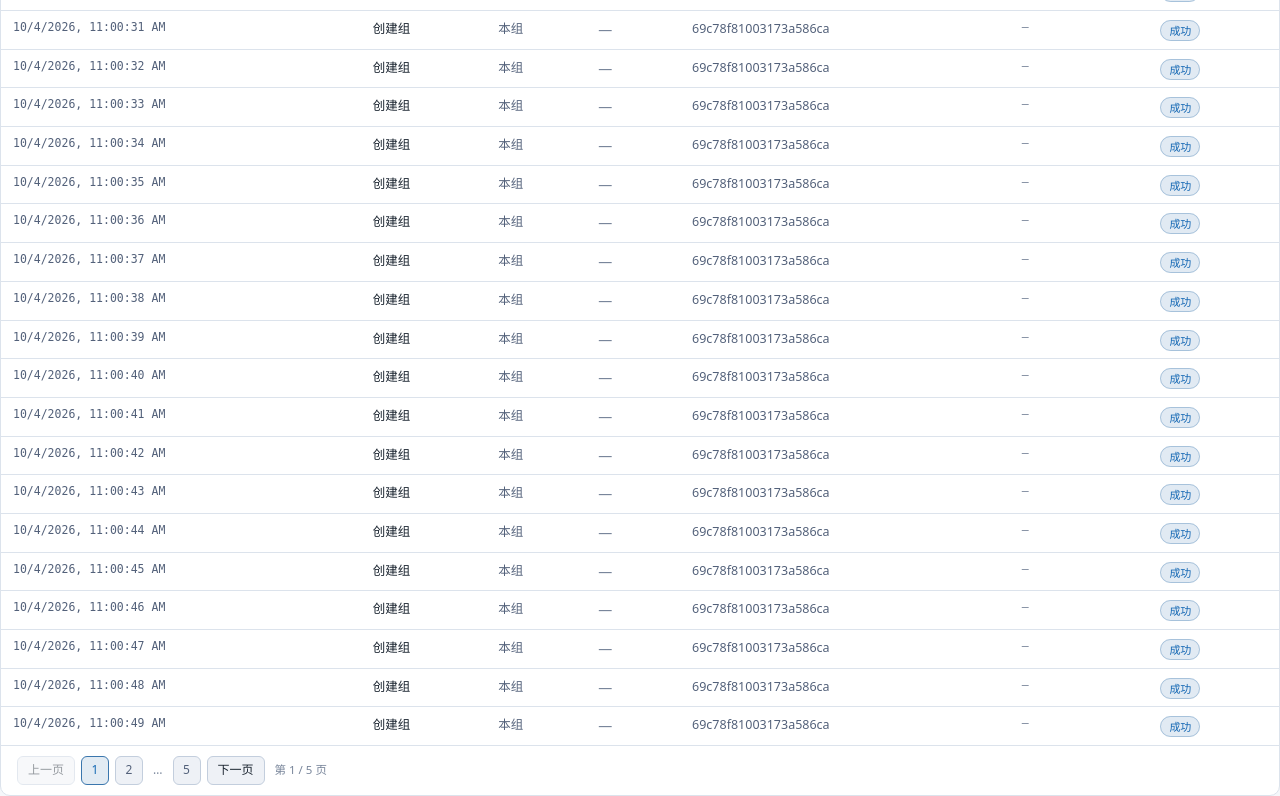
Test case: GroupAuditPanel 页码翻页 › 上一页 / 下一页按位置禁用，并在加载中锁住（防连点）
(page scrolled)
Check: the button with test id "audit-prev-page" is disabled, box [17,756,75,785]
Click the button with test id "audit-next-page". click: (236, 770)
box: [206,756,264,785]
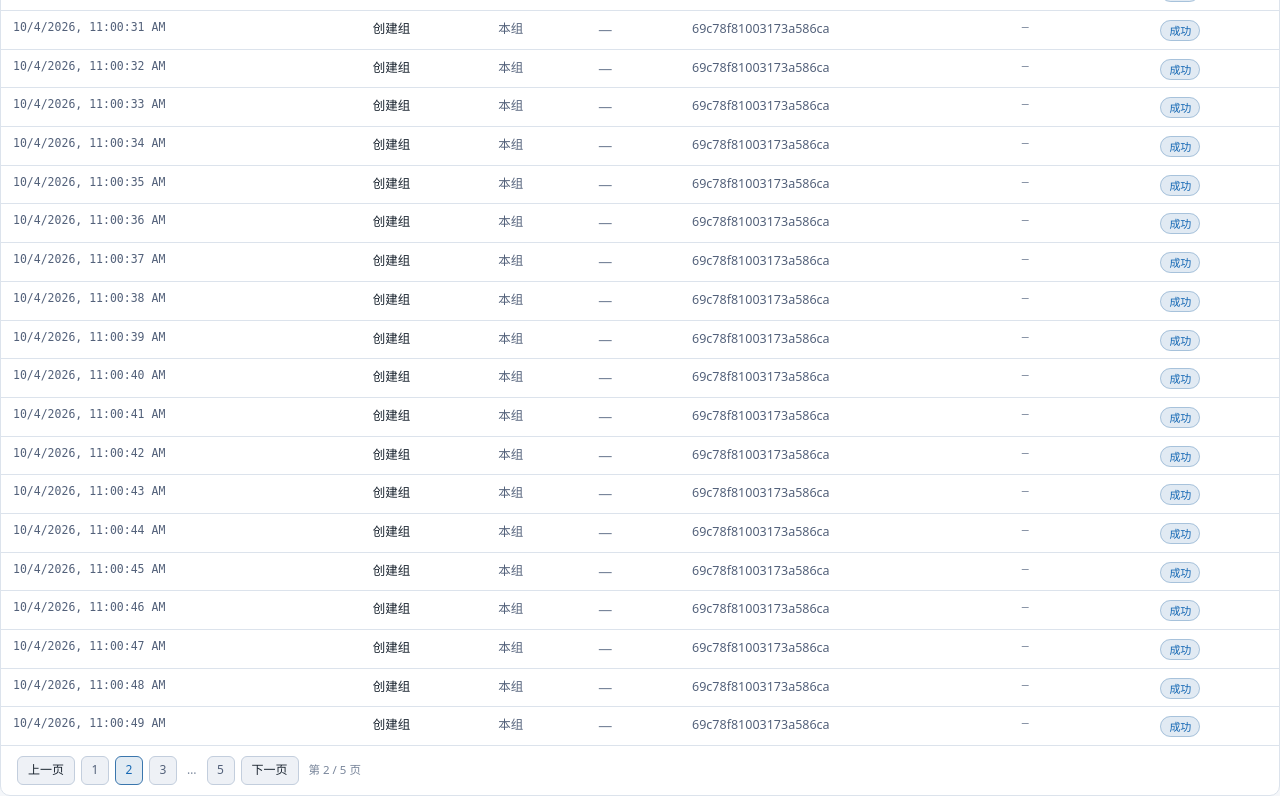
Check: the text with test id "audit-page-summary" reads "第 2 / 5 页", box [308,762,361,778]
Click the button with test id "audit-page-5". click: (220, 770)
box: [206,756,234,785]
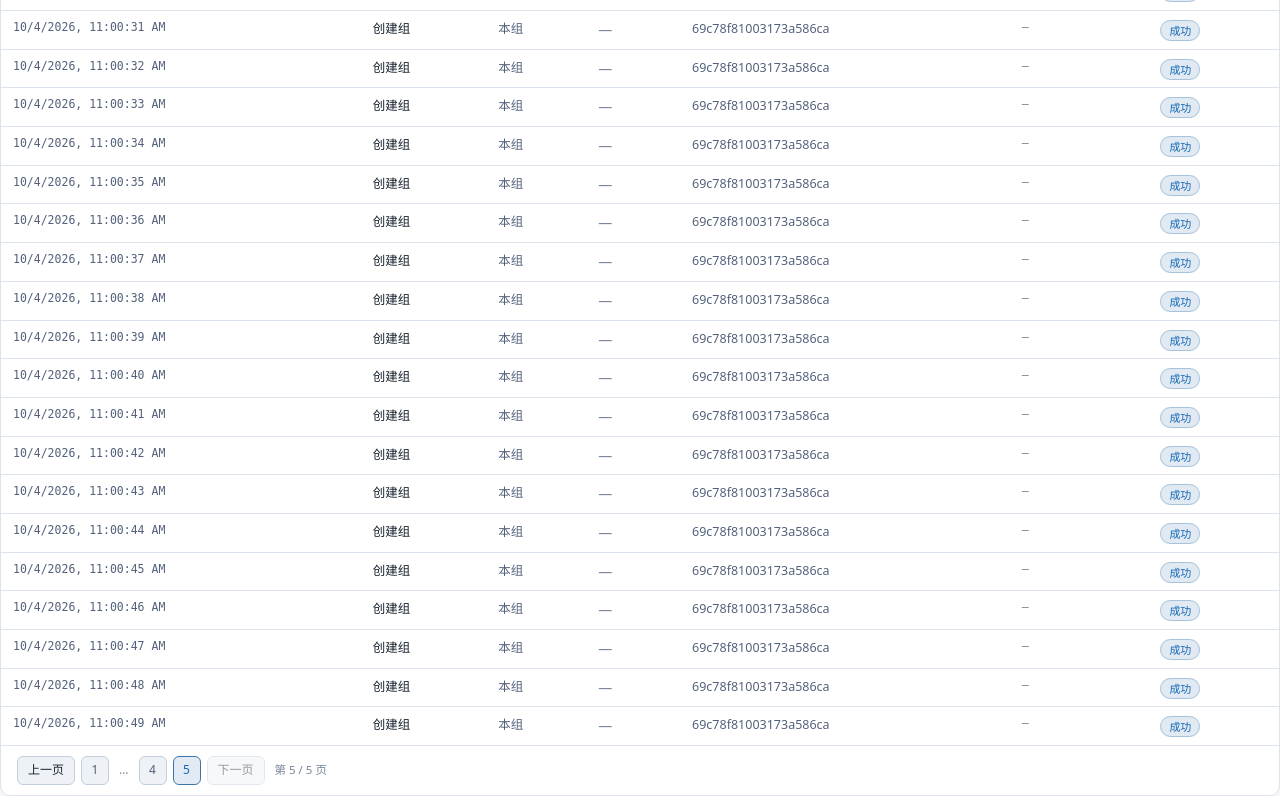
Check: the button with test id "audit-next-page" is disabled, box [206,756,264,785]
